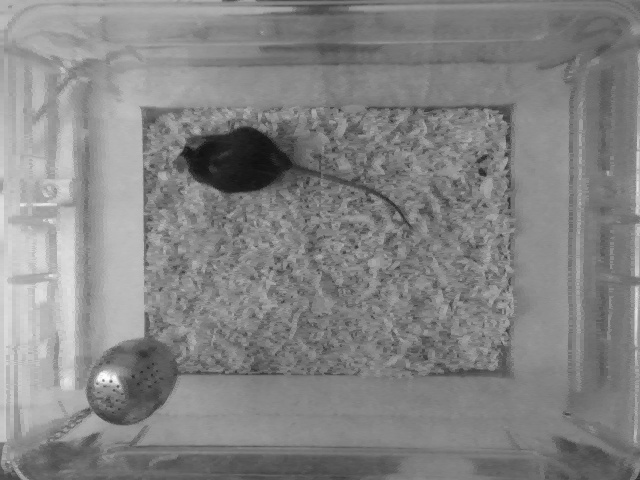mice: (168, 125, 413, 222)
